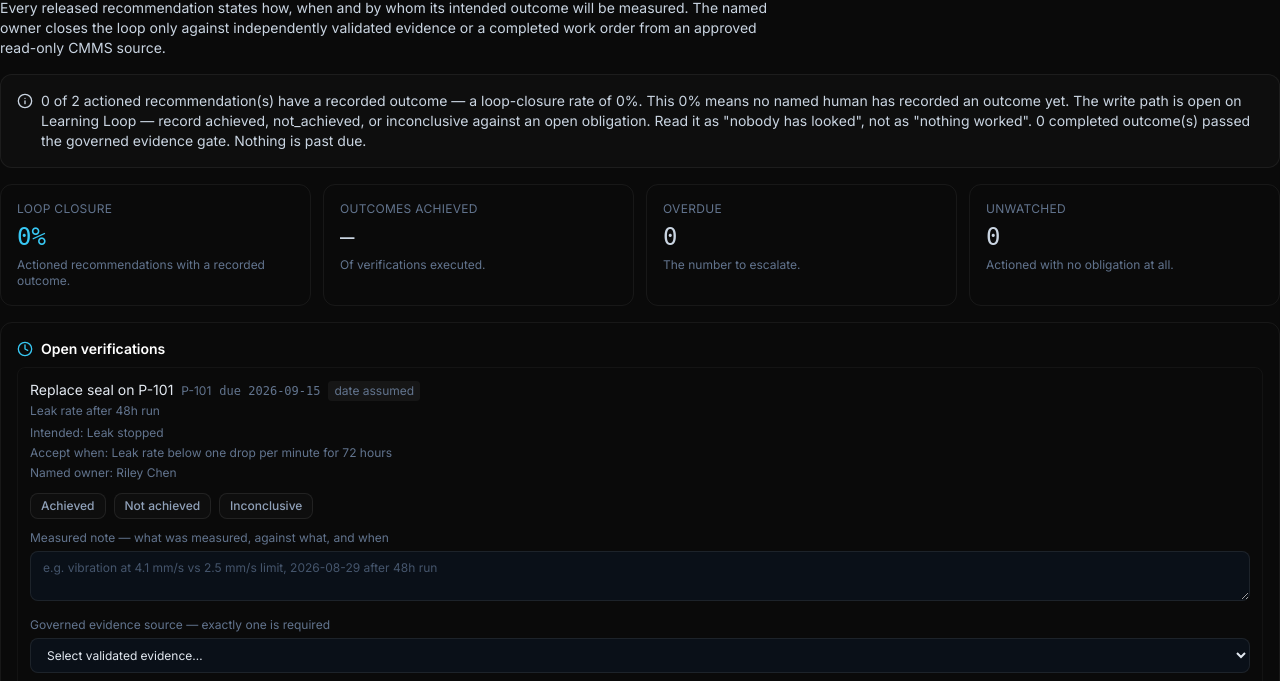
Scenario: VerificationLoop — named-human recorder › requires and forwards exactly one governed evidence source for a recommendation outcome
Later steps or results of the test are not shown.
Check: the text "Named owner: Riley Chen" is shown, box [30,464,177,480]
Click the radio button labelled "Achieved" at [68, 506], box [30,492,106,518]
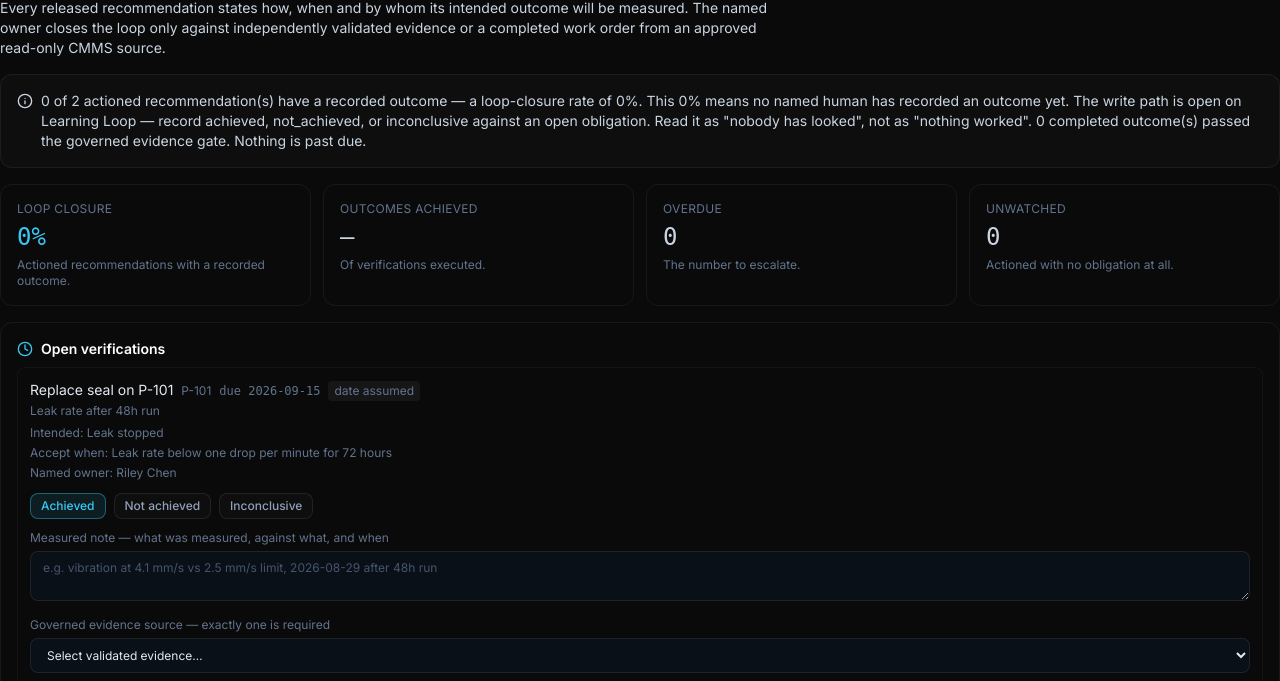
Replace the text in the text box with placeholder "vibration at 4.1 mm/s" with "leak rate 0.2 drops per minute after 72 hours" at [640, 576], box [30,550,1250,600]
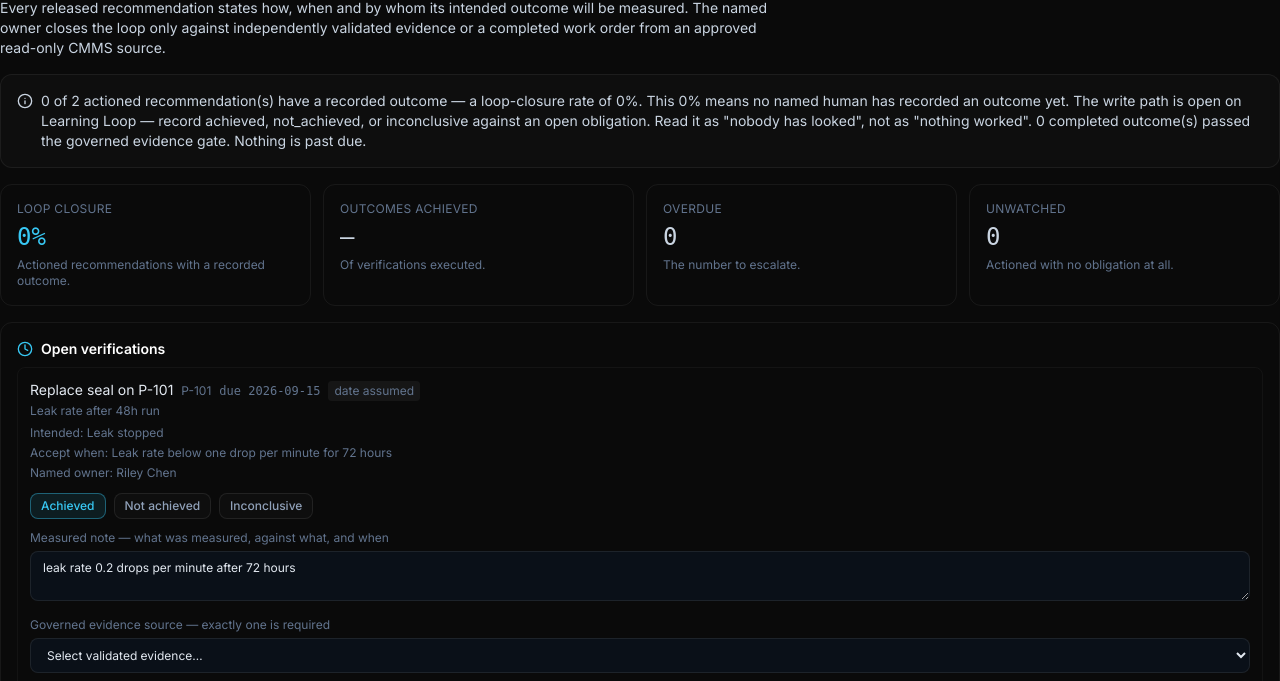
Select "CMMS work order · WO-100 · Post-repair inspection" in the dropdown labelled "Governed evidence source — exactly one is required" at [640, 655], box [30,638,1250,672]
(page scrolled)
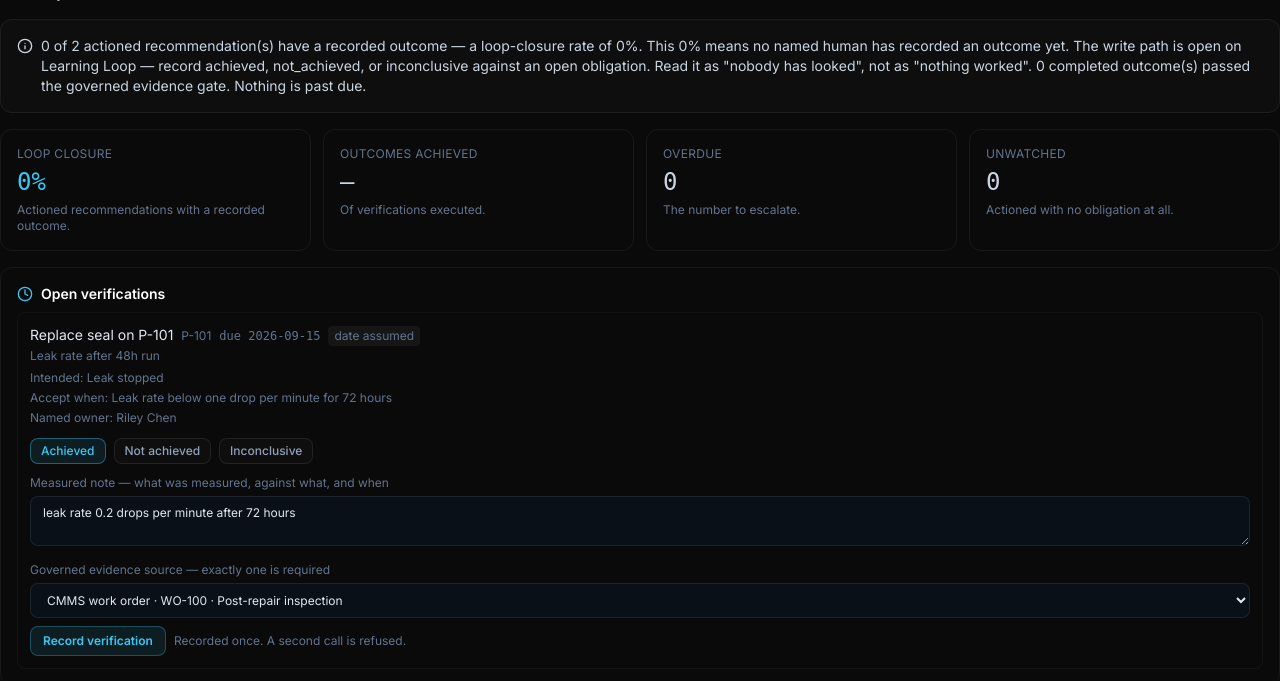
Check: the button "Record verification" is enabled, box [30,626,166,656]
